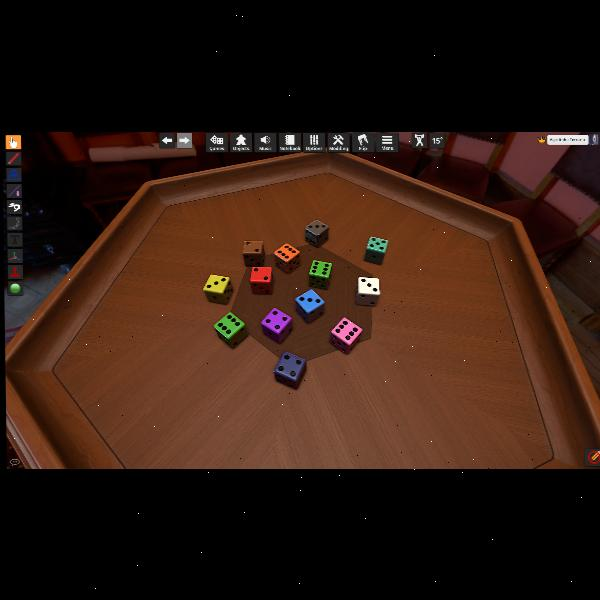d6: (273, 351, 306, 389), (214, 311, 248, 347), (330, 317, 362, 353), (260, 307, 292, 343), (295, 288, 324, 324), (203, 274, 232, 305), (274, 242, 300, 274), (308, 259, 332, 289), (304, 219, 329, 247), (356, 276, 379, 306), (364, 236, 387, 266), (249, 266, 273, 294), (242, 240, 264, 268)
